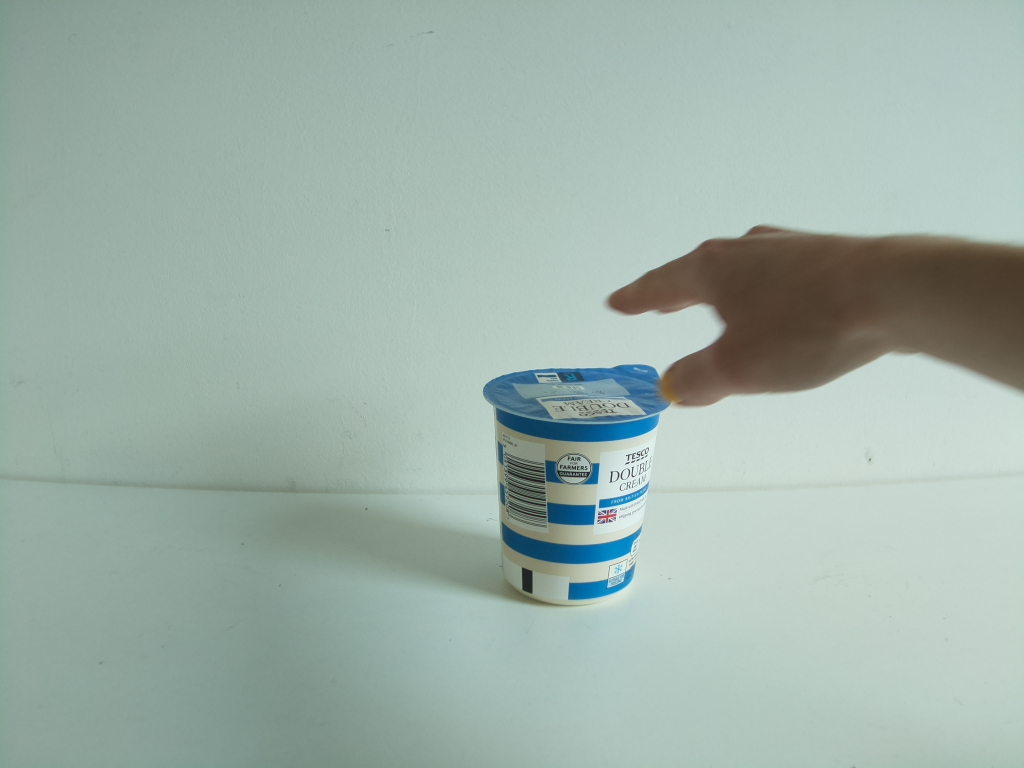cream: (489, 363, 666, 608)
